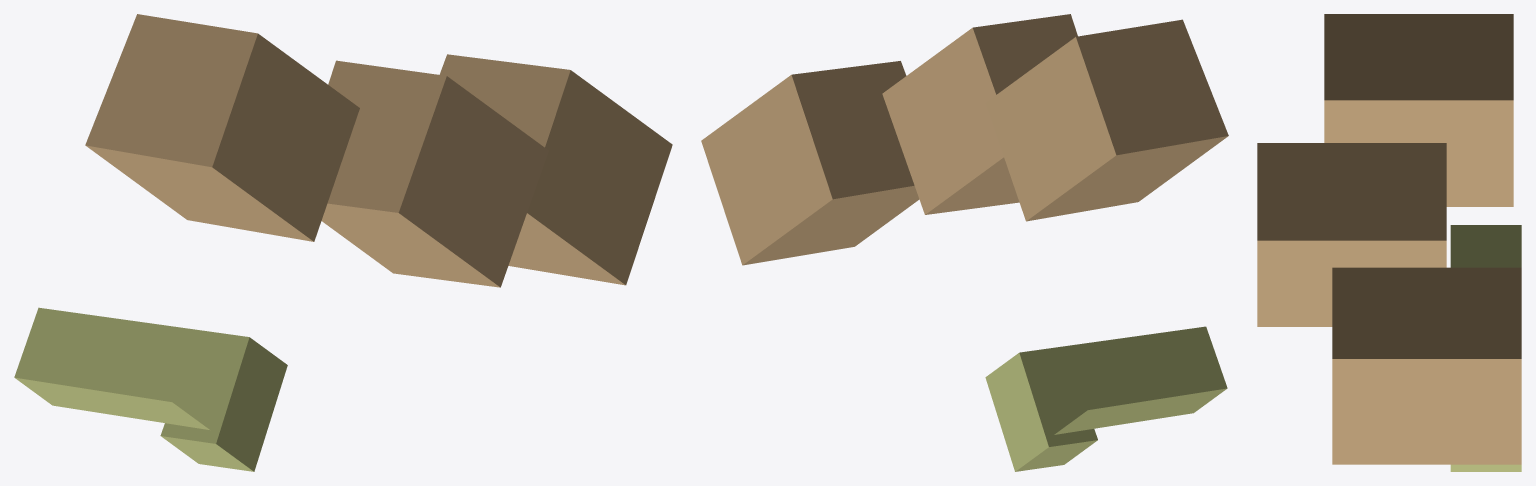
The picture shows the model from 3 angles, left to right: view 1: azimuth 30°, elevation 25°; view 2: azimuth 150°, elevation 25°; view 3: azimuth 270°, elevation 25°; orthographic projection. The views are drawn at different scales.
Parts seen in each view (by area): view 1: 0_0_1_3_1_2_1_0; view 2: 0_0_1_3_1_2_1_0; view 3: 0_0_1_3_1_2_1_0.
Boxes of the visible parts, left/top/right/bottom form: 0_0_1_3_1_2_1_0: left=14, top=14, right=672, bottom=471; 0_0_1_3_1_2_1_0: left=701, top=14, right=1228, bottom=471; 0_0_1_3_1_2_1_0: left=1257, top=14, right=1521, bottom=471.
Size of the model in its own units: 75.54 by 58.81 by 33.5.
